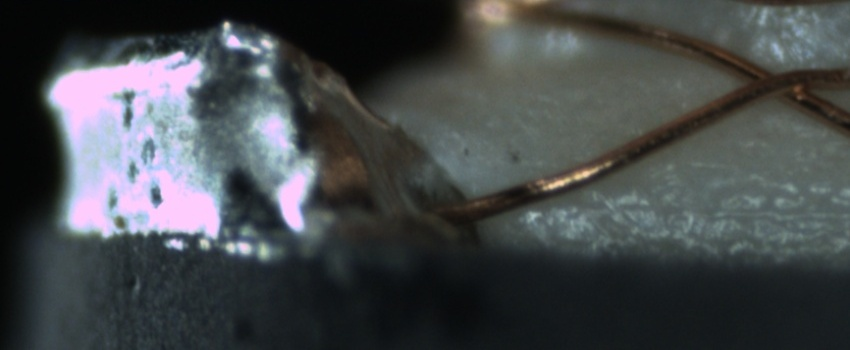CL: (712, 58, 835, 109)
DL: (537, 174, 850, 238)
